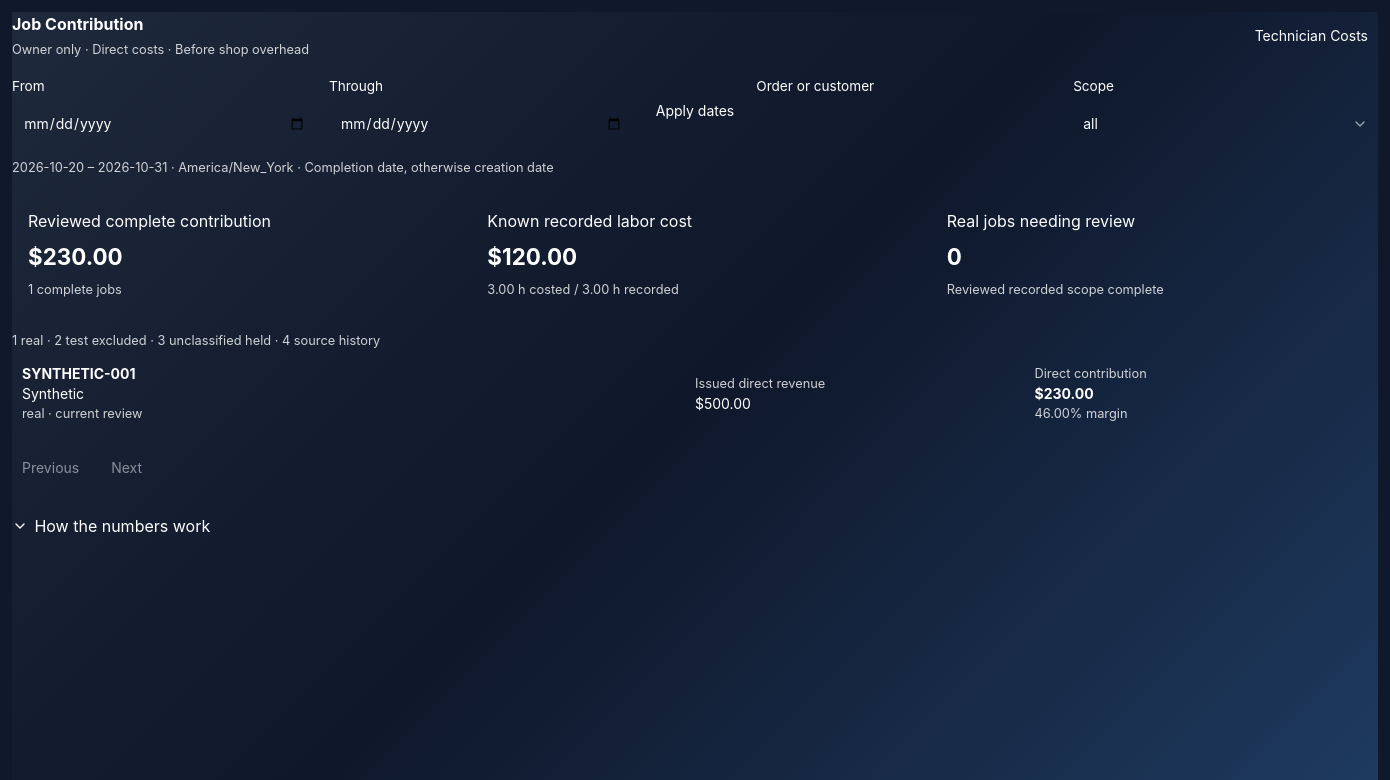
Test: Owner job contribution › shows explicit numeric illustration only inside collapsed details
Expected: the text "SYNTHETIC-001" is shown, 22,365 -> 136,382
Step 1. Click the heading "How the numbers work" → (111, 526), box 12,516 -> 210,536
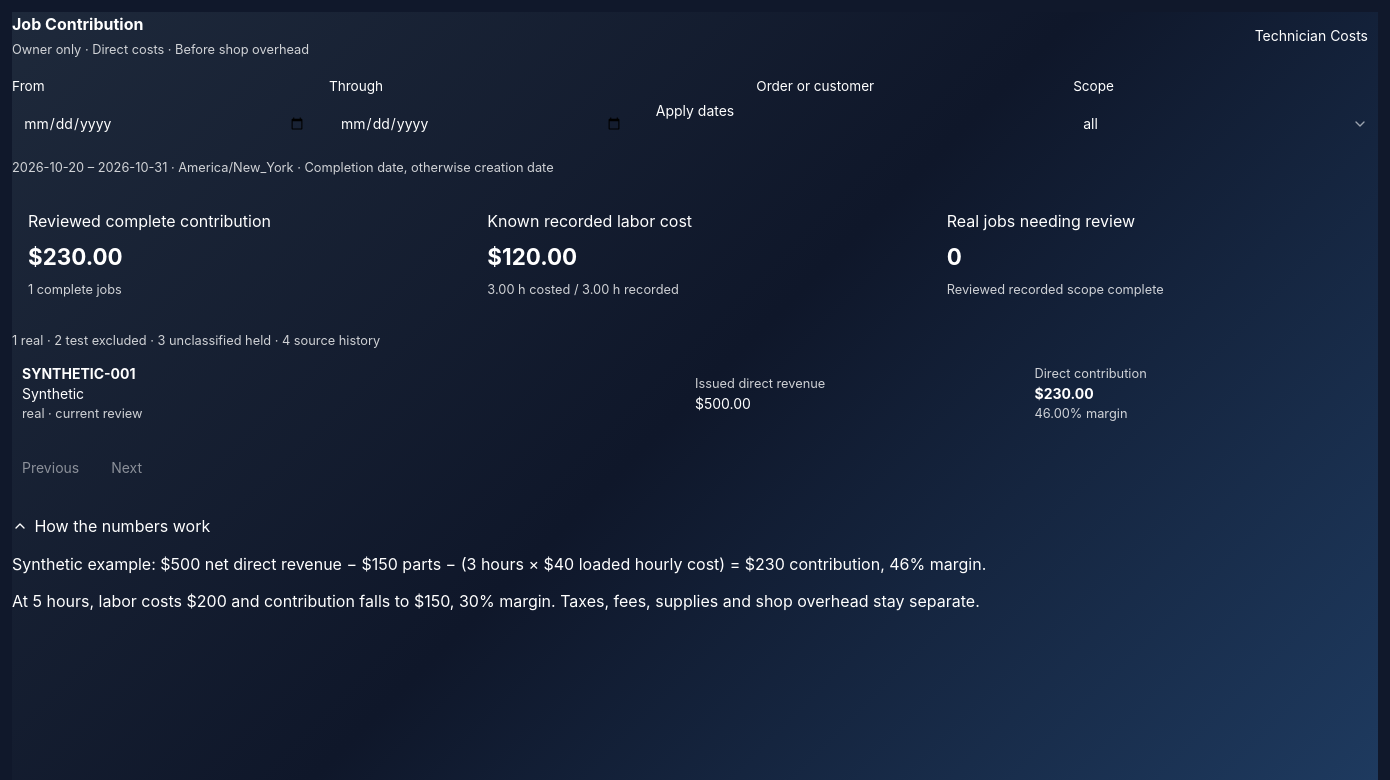
Result: the text "At 5 hours" is shown at 12,591 -> 980,611
